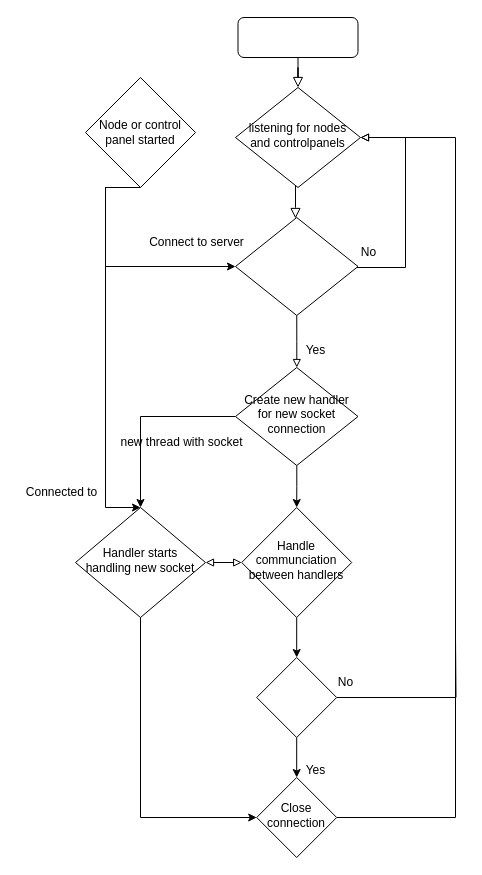
This 482x875 diagram has some shape labels left out. Each missing label, with the centre of its shape:
Connection closed?: the point at 296,697
Node or control panel connected?: the point at 296,266
Server starts: the point at 297,37
